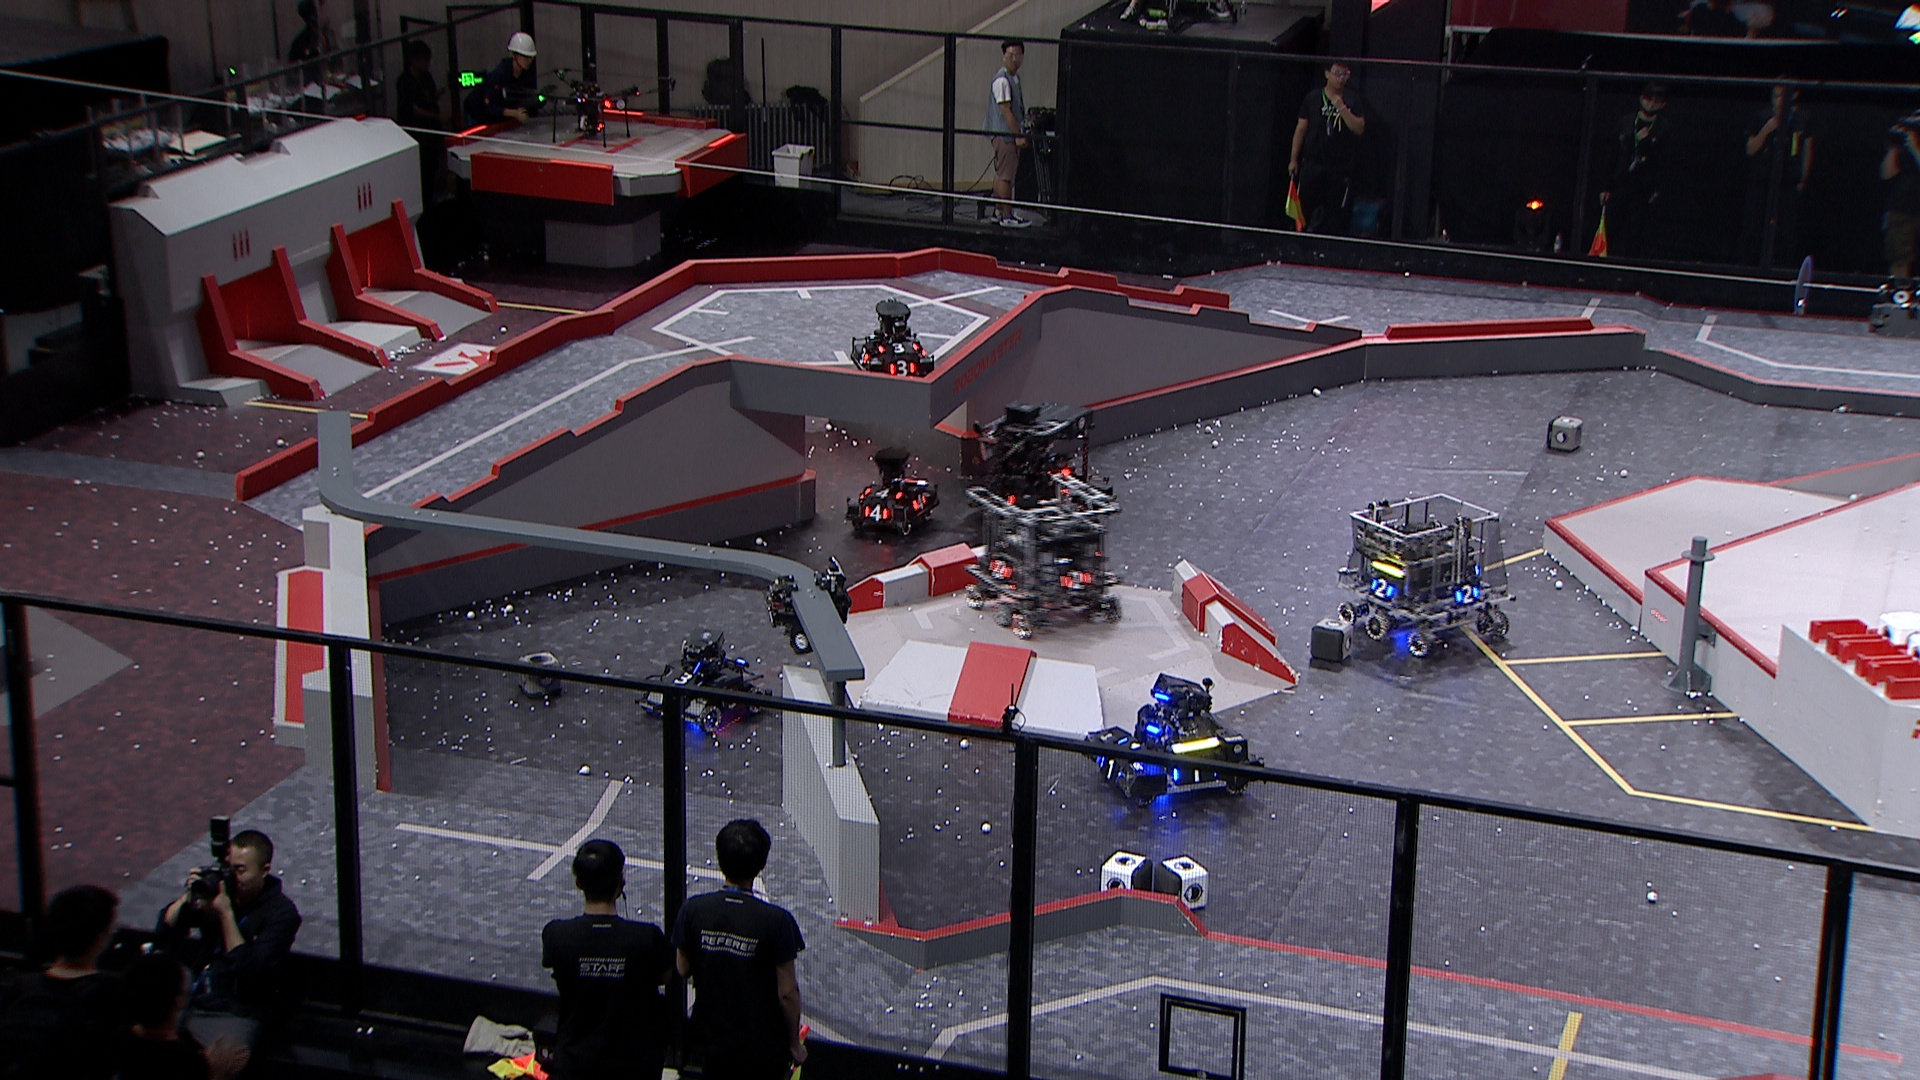armor: (1171, 756, 1220, 785), (662, 666, 708, 690), (1097, 754, 1129, 787), (1058, 567, 1095, 593), (874, 338, 918, 356), (1367, 575, 1399, 599), (1452, 582, 1481, 607), (887, 356, 918, 380), (861, 502, 891, 524), (986, 559, 1013, 583), (864, 483, 902, 498), (907, 489, 932, 512), (855, 342, 874, 363)
car: (1337, 488, 1510, 657), (957, 467, 1122, 641), (1083, 670, 1259, 802), (967, 405, 1095, 524), (636, 622, 771, 731), (844, 443, 939, 538), (847, 301, 927, 385)
watcher: (761, 555, 855, 651)
